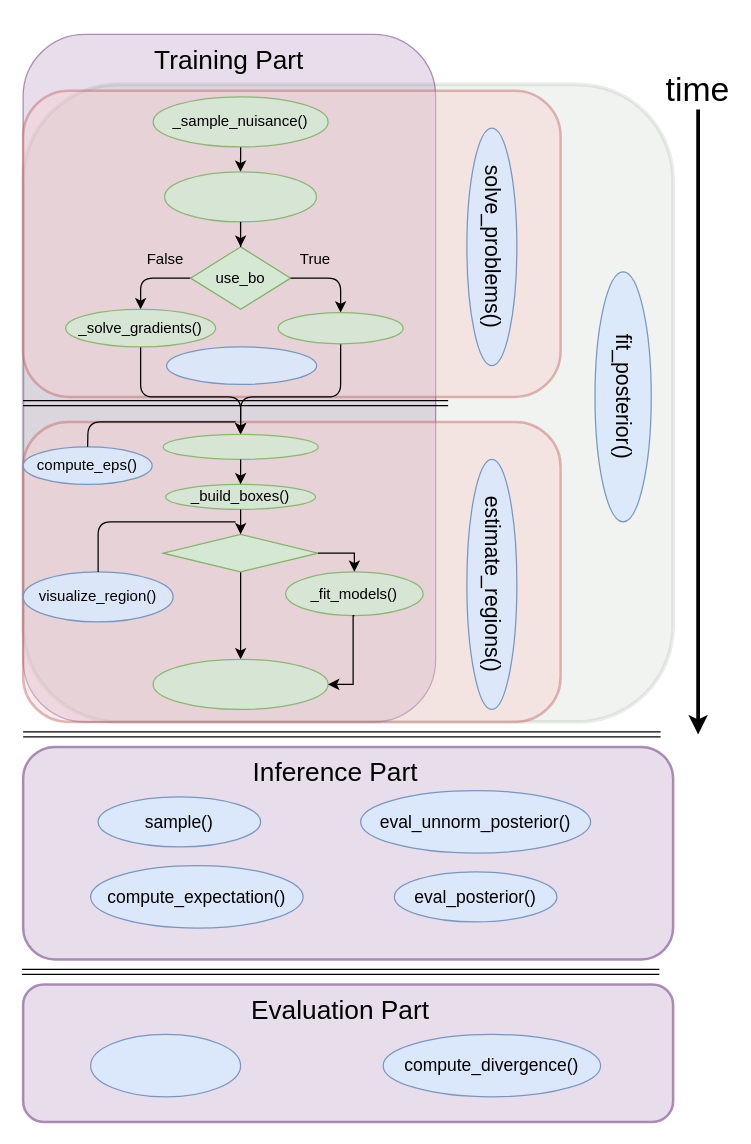
The diagram is 751 pixels wide and 1144 high, and some of its shapes have lost their labels. The box of each missing label's shape, as (x1, y1, x2, y2) in pixels:
_define_objectives(): (163, 171, 316, 222)
_define_posterior(): (152, 658, 328, 709)
_filter_solutions(): (162, 433, 318, 459)
_solve_bo(): (277, 311, 403, 344)
compute_ess(): (89, 1033, 241, 1097)
distance_hist(): (165, 346, 317, 384)
fit_models: (162, 533, 318, 572)
